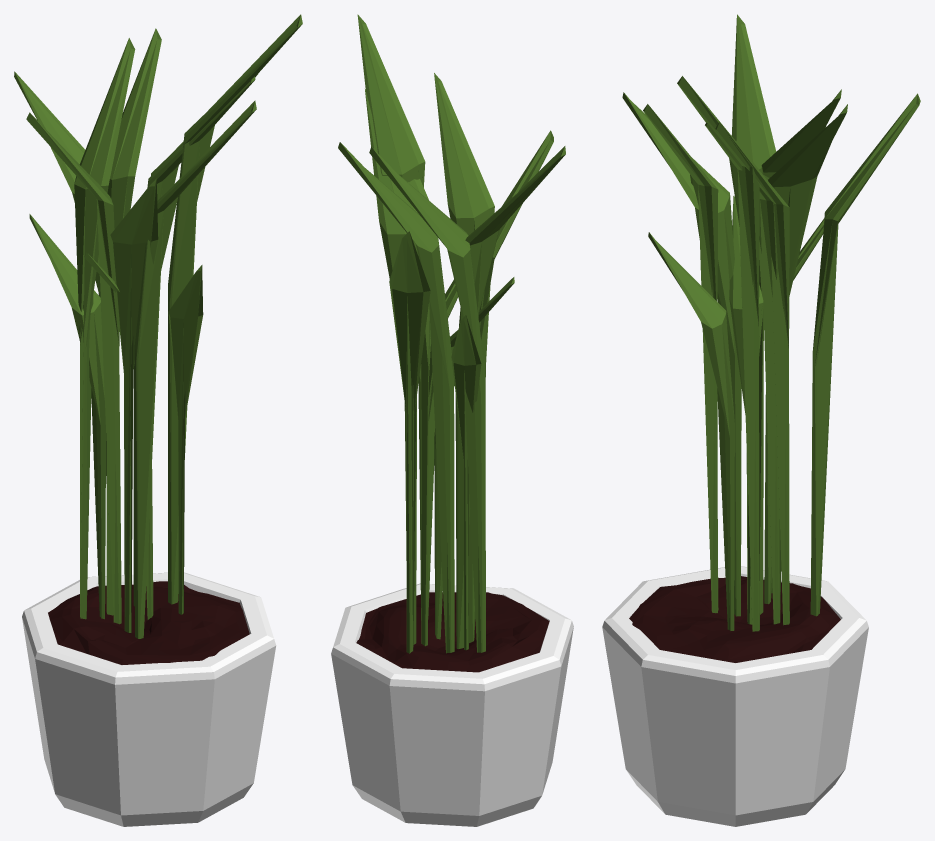
The model's file is alpinia calcarata.glb.
The picture shows the model from 3 angles, left to right: view 1: azimuth 30°, elevation 25°; view 2: azimuth 150°, elevation 25°; view 3: azimuth 270°, elevation 25°; orthographic projection. The views are drawn at different scales.
Parts seen in each view (by area): view 1: alpinia calcarata; view 2: alpinia calcarata; view 3: alpinia calcarata.
Boxes of the visible parts, x1,y1,x2,y2 form: alpinia calcarata: [14, 14, 302, 826]; alpinia calcarata: [331, 14, 573, 826]; alpinia calcarata: [602, 14, 920, 826].
Bounding box in the file's own units: 1.5 × 4.48 × 1.66.
